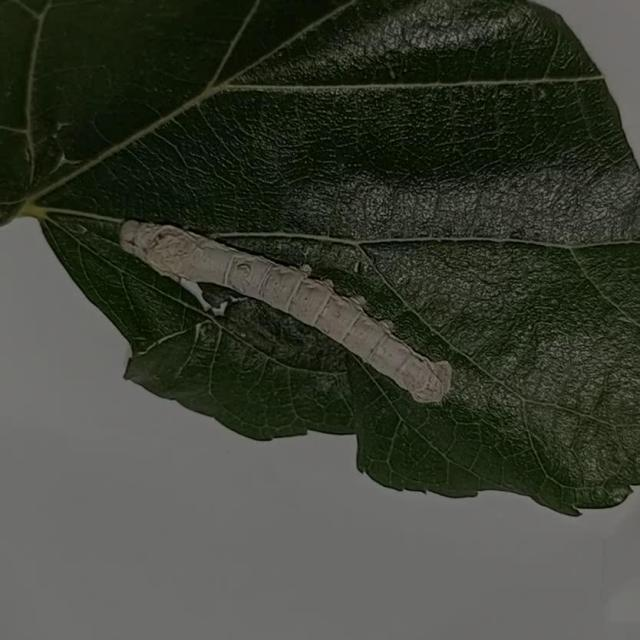Healthy: (99, 175, 478, 436)
